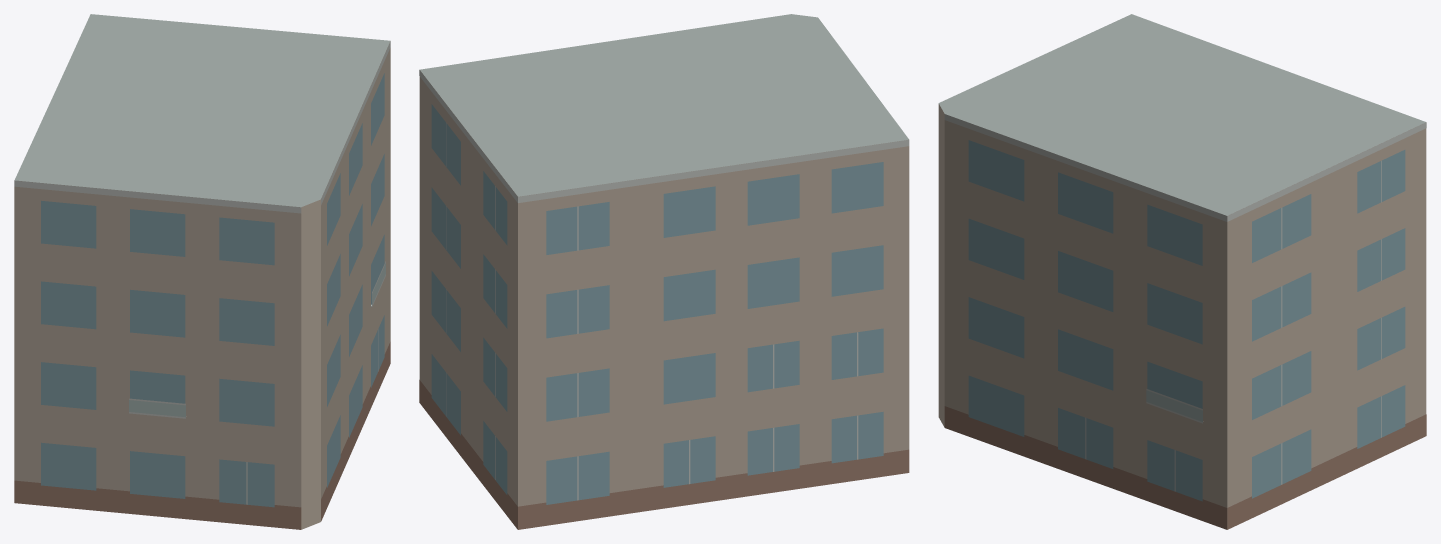
File: survey-upis-32624884.glb
The picture shows the model from 3 angles, left to right: view 1: azimuth 30°, elevation 25°; view 2: azimuth 150°, elevation 25°; view 3: azimuth 270°, elevation 25°; orthographic projection. The views are drawn at different scales.
Visible parts, largest first — view 1: survey-upis-32624884.tmp; view 2: survey-upis-32624884.tmp; view 3: survey-upis-32624884.tmp.
Boxes of the visible parts, bbox=[...] form: survey-upis-32624884.tmp: bbox=[14, 14, 390, 529]; survey-upis-32624884.tmp: bbox=[419, 14, 909, 529]; survey-upis-32624884.tmp: bbox=[938, 14, 1426, 529].
Bounding box in the file's own units: 17.39 × 12.6 × 17.75.
